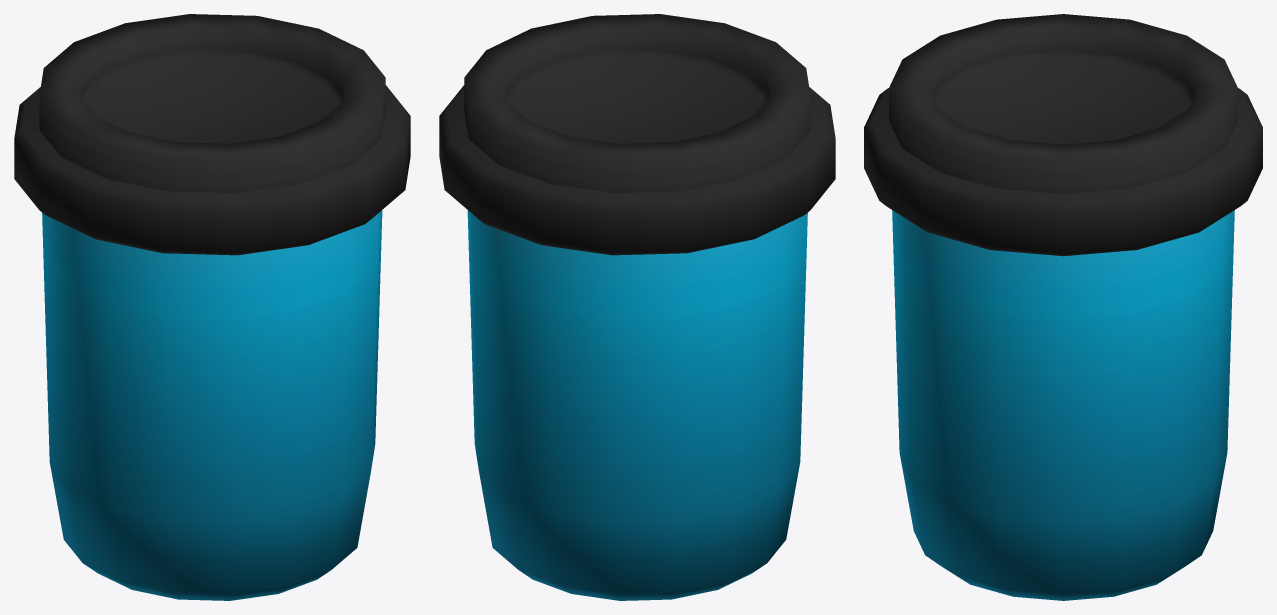
The model's file is SM_Cup_Coffe_9.fbx.
3 renders of one model, left to right at view 1: azimuth 30°, elevation 25°; view 2: azimuth 150°, elevation 25°; view 3: azimuth 270°, elevation 25°, orthographic.
Parts seen in each view (by area): view 1: SM_Cup_Coffe_9; view 2: SM_Cup_Coffe_9; view 3: SM_Cup_Coffe_9.
Part boxes in pixels (<box>): SM_Cup_Coffe_9: <box>14,14,410,600</box>; SM_Cup_Coffe_9: <box>439,14,835,600</box>; SM_Cup_Coffe_9: <box>864,14,1262,600</box>.
Size of the model in its own units: 8.27 by 10.48 by 8.27.
1 material, 1 textured.
